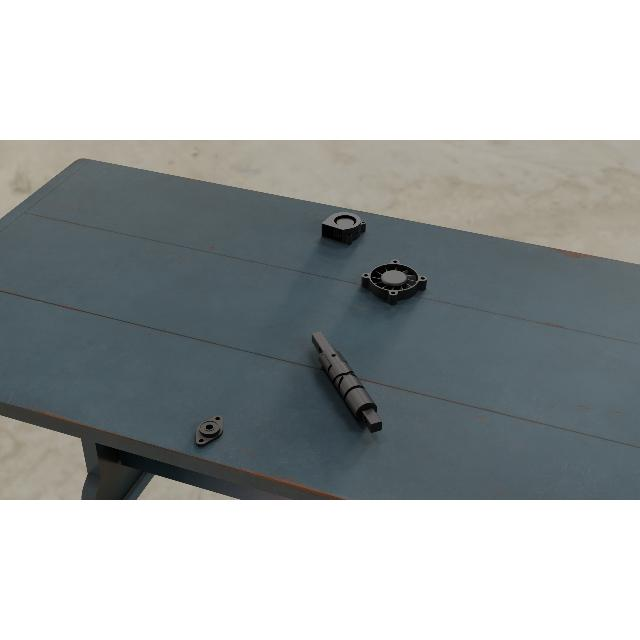Pieza1: (306, 326, 388, 438)
Pieza2: (186, 410, 232, 450)
Pieza3: (320, 208, 368, 246)
Pieza4: (358, 258, 429, 308)
